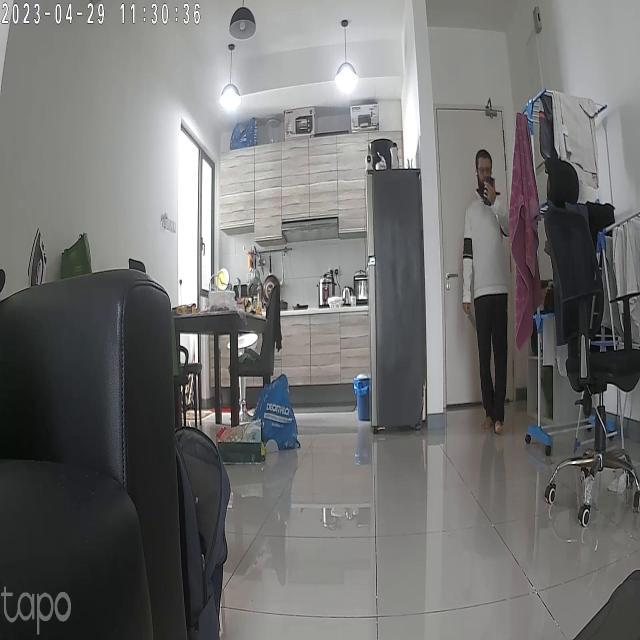Knife: (463, 291, 491, 342)
